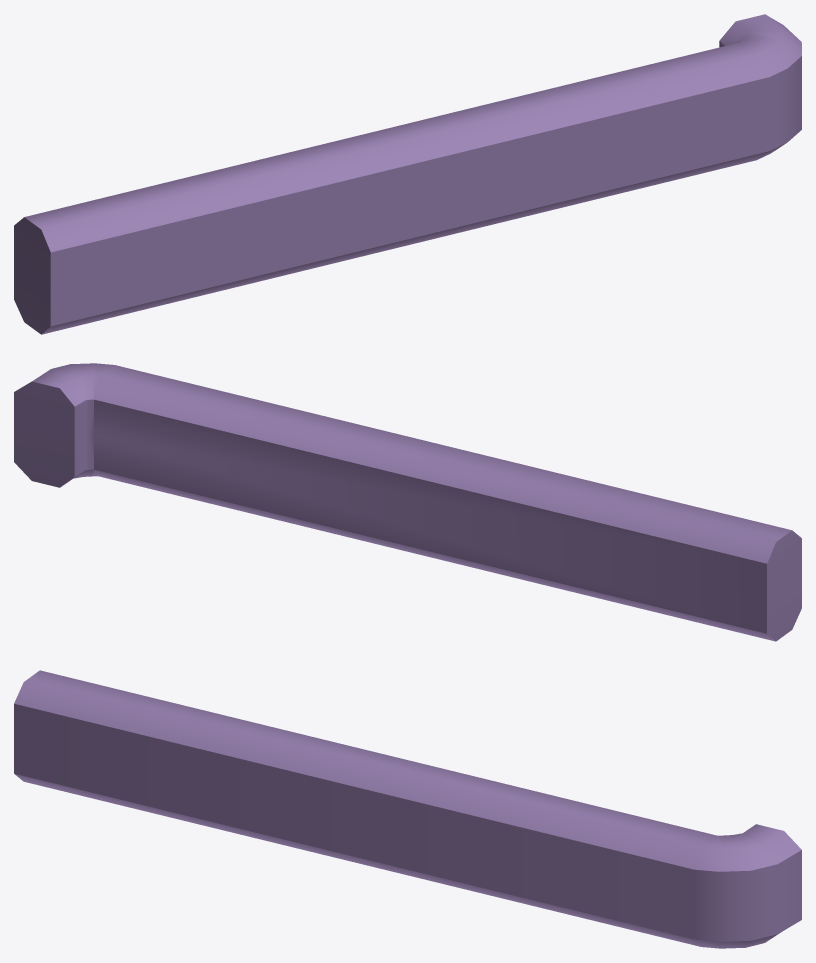
Rendered from modulo_arriba_pared_1_der.fbx.
3 views of the same model, one above another, from view 1: azimuth 30°, elevation 25°; view 2: azimuth 150°, elevation 25°; view 3: azimuth 330°, elevation 25° (orthographic). The views are drawn at different scales.
Visible parts, largest first — view 1: Box012; view 2: Box012; view 3: Box012.
Part boxes in pixels (x1,y1,x2,y2): Box012: (14,14,801,334); Box012: (14,363,801,641); Box012: (14,670,801,948).
Bounding box in the file's own units: 221 × 28.43 × 24.42.
